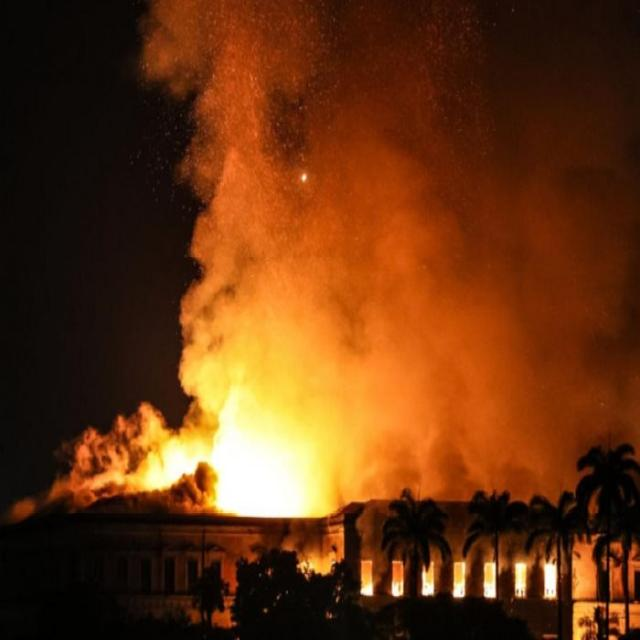Fire: (110, 371, 334, 526), (358, 556, 570, 607)
Smoke: (336, 23, 619, 508), (134, 0, 358, 371)
